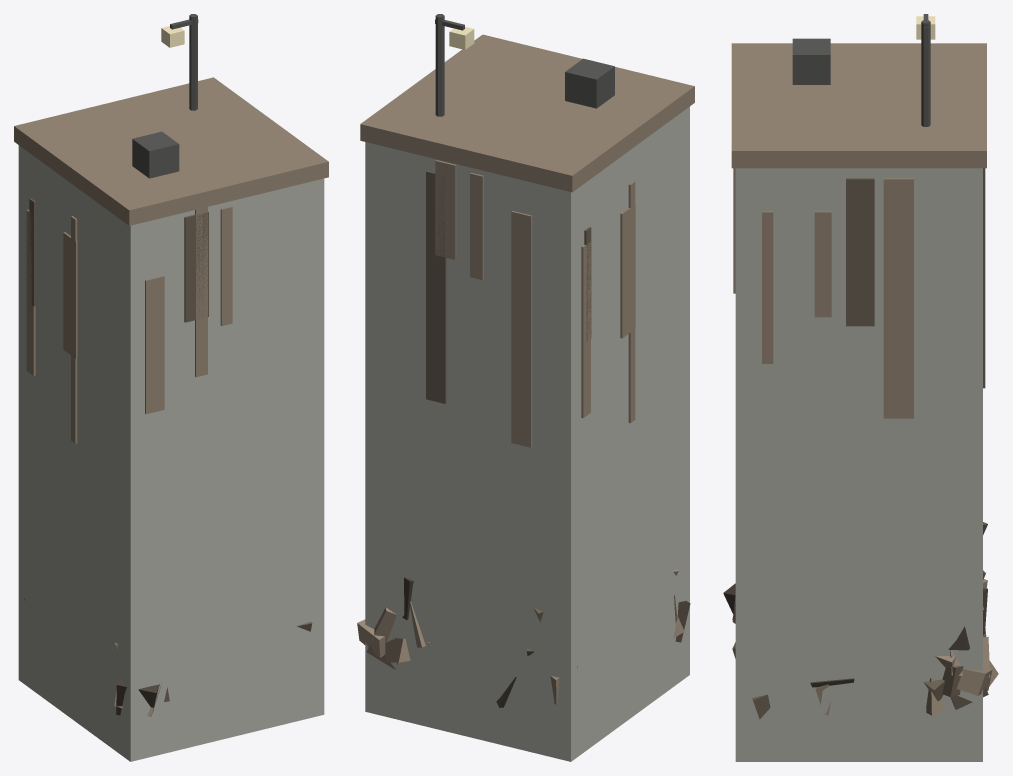
Rendered from fort_compound_tower.glb.
The picture shows the model from 3 angles, left to right: view 1: azimuth 30°, elevation 25°; view 2: azimuth 150°, elevation 25°; view 3: azimuth 270°, elevation 25°; orthographic projection. The views are drawn at different scales.
Visible parts, largest first — view 1: fort_compound_tower; view 2: fort_compound_tower; view 3: fort_compound_tower.
Boxes of the visible parts, x1,y1,x2,y2 form: fort_compound_tower: (14,14,328,761); fort_compound_tower: (357,14,694,761); fort_compound_tower: (723,14,998,761).
Size of the model in its own units: 5.64 by 16.6 by 5.79.
